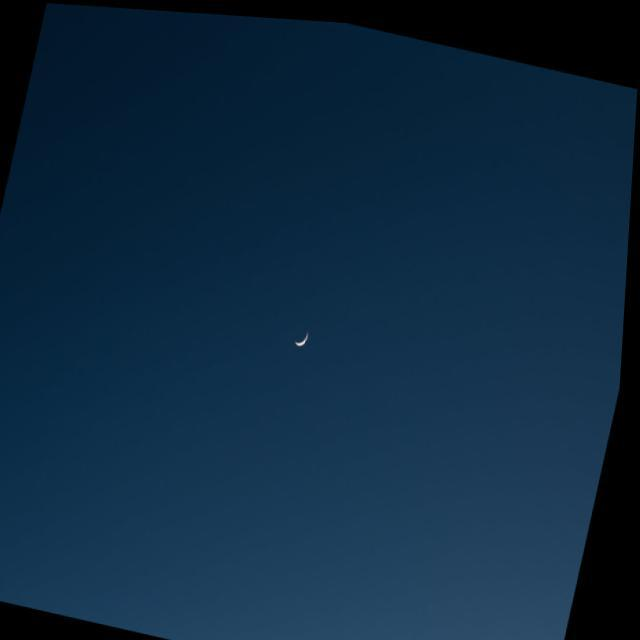moon: (290, 316, 318, 354)
